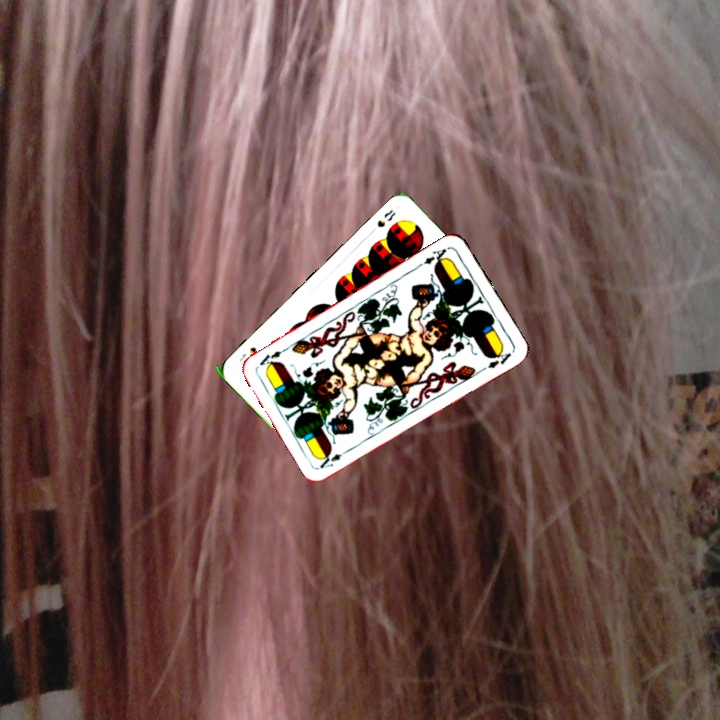EA: (315, 445, 353, 471), (419, 244, 451, 269)
S8: (373, 205, 398, 230)
